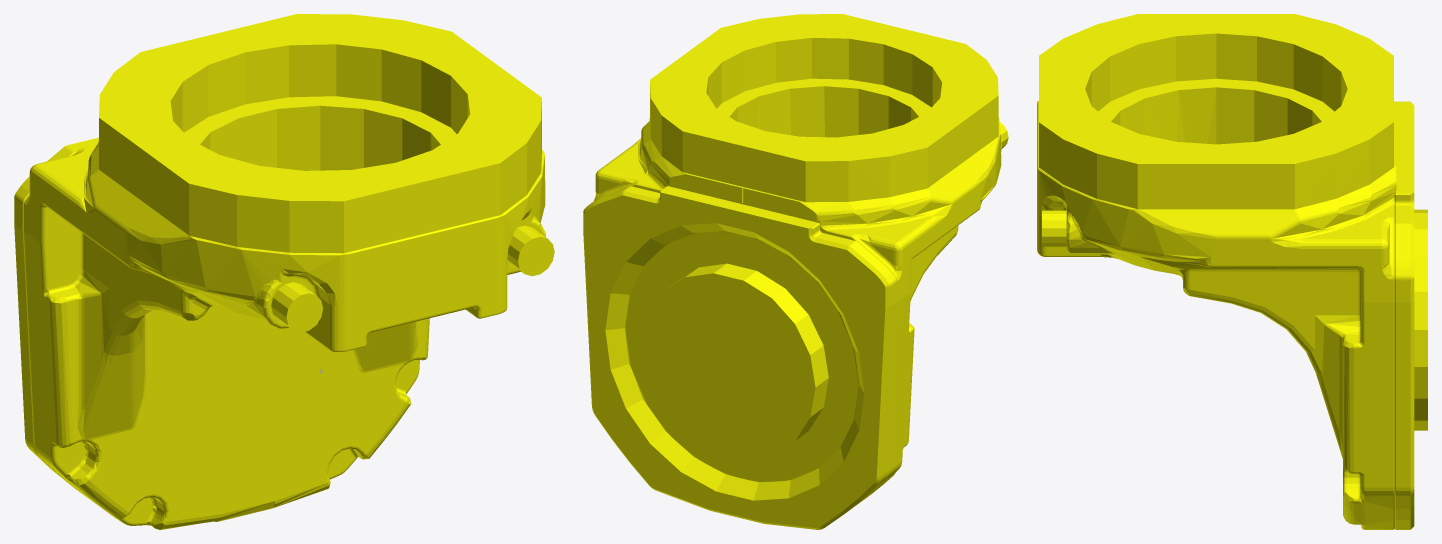
3 views of the same model, side by side, from view 1: azimuth 30°, elevation 25°; view 2: azimuth 150°, elevation 25°; view 3: azimuth 270°, elevation 25° (orthographic). The views are drawn at different scales.
Parts seen in each view (by area): view 1: node; view 2: node; view 3: node.
Boxes of the visible parts, bbox=[...] form: node: bbox=[14, 14, 554, 529]; node: bbox=[583, 14, 1008, 529]; node: bbox=[1037, 14, 1427, 529].
Bounding box in the file's own units: 106 × 121 × 106.
